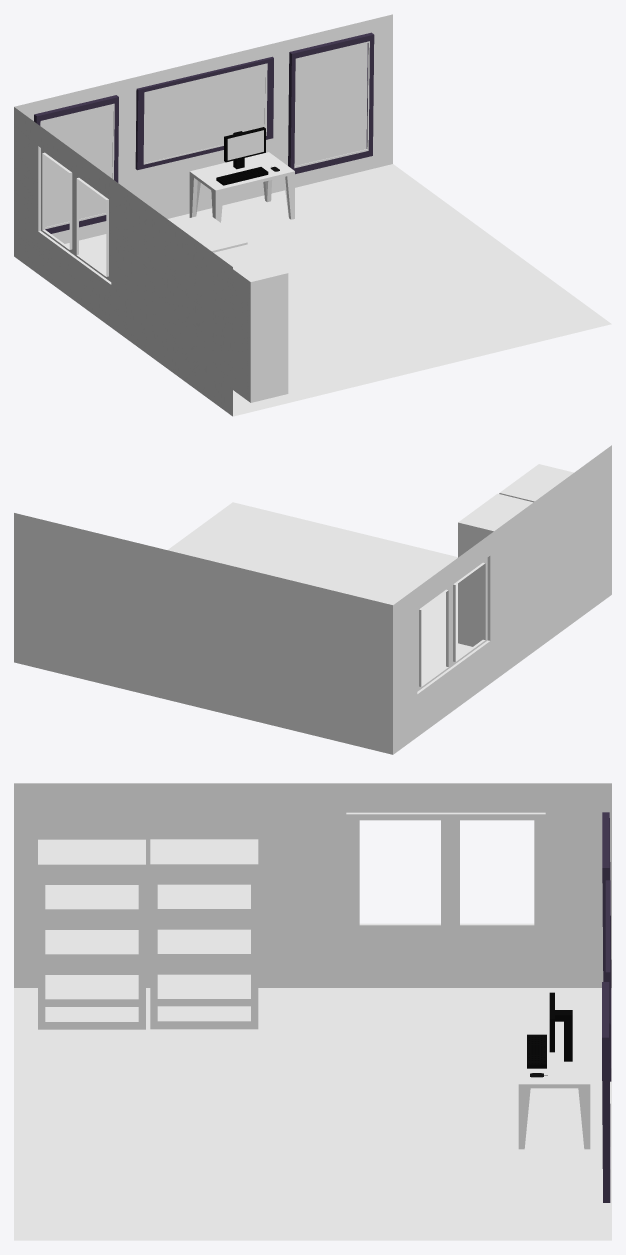
The model's file is pokoj.glb.
3 views of the same model, one above another, from view 1: azimuth 30°, elevation 25°; view 2: azimuth 150°, elevation 25°; view 3: azimuth 270°, elevation 25° (orthographic). The views are drawn at different scales.
Visible parts, largest first — view 1: Prostokąt, Prostokąt.010, Prostokąt.005, Szafa, Prostokąt.008, Prostokąt.007, Biurko, Prostokąt.001, Prostokąt.004, Prostokąt.009, Szafa.001, Prostokąt.006 (+2 smaller); view 2: Prostokąt.010, Prostokąt, Szafa.001, Prostokąt.009, Szafa; view 3: Prostokąt, Prostokąt.010, Szafa.001, Szafa, Prostokąt.009, Biurko, Prostokąt.001, Monitor, Prostokąt.006, Prostokąt.004, Klawiatura.
Boxes of the visible parts, x1,y1,x2,y2 form: Prostokąt: (65,164,611,416); Prostokąt.010: (14,14,392,416); Prostokąt.005: (143,63,267,164); Szafa: (213,244,288,402); Prostokąt.008: (295,43,367,165); Prostokąt.007: (40,103,114,229); Biurko: (189,152,294,222); Prostokąt.001: (288,32,374,174); Prostokąt.004: (135,56,273,170); Prostokąt.009: (41,148,111,281); Szafa.001: (172,213,247,252); Prostokąt.006: (34,95,118,233); Prostokąt.010: (14,445,611,754); Prostokąt: (167,502,472,684); Szafa.001: (458,493,533,646); Prostokąt.009: (417,557,487,691); Szafa: (499,464,573,502); Prostokąt: (14,988,611,1240); Prostokąt.010: (14,783,611,987); Szafa.001: (150,839,258,1029); Szafa: (38,839,145,1029); Prostokąt.009: (346,814,545,930); Biurko: (518,1031,590,1149); Prostokąt.001: (602,982,610,1202); Monitor: (549,992,572,1061); Prostokąt.006: (602,812,610,981); Prostokąt.004: (605,880,611,1081); Klawiatura: (527,1034,546,1068).
Size of the model in its own units: 8 by 3.02 by 8.
